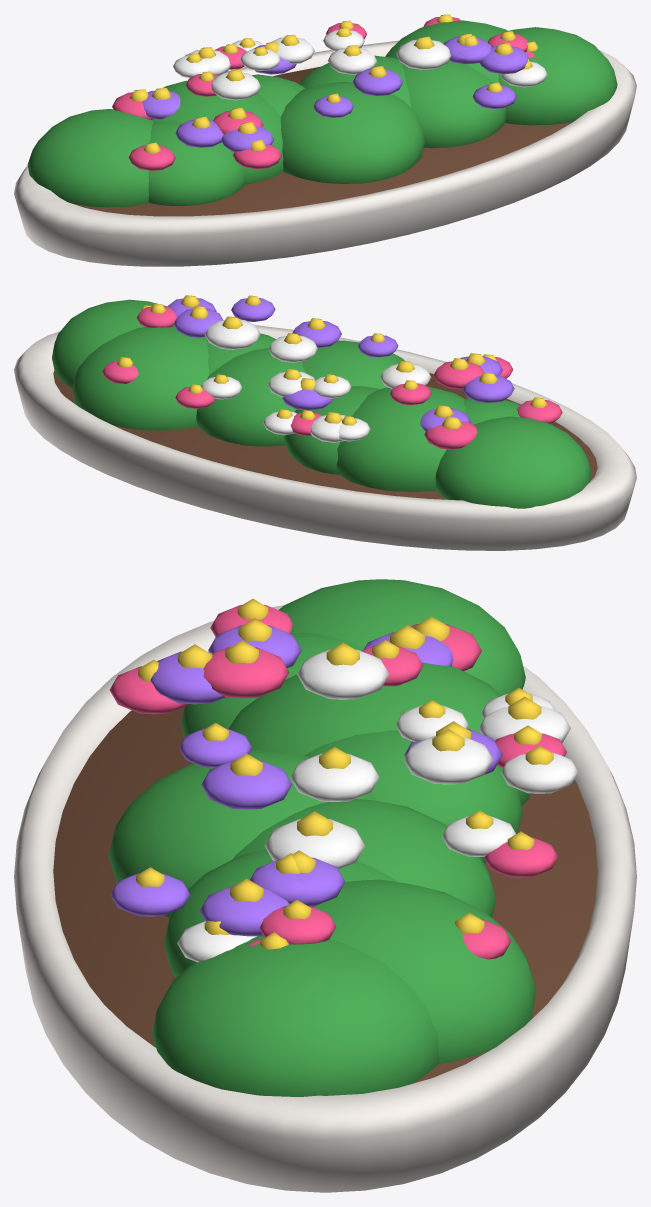
Rendered from LobbyFlowerBed.obj.
The picture shows the model from 3 angles, top to bottom: view 1: azimuth 30°, elevation 25°; view 2: azimuth 150°, elevation 25°; view 3: azimuth 270°, elevation 25°; orthographic projection. The views are drawn at different scales.
Visible parts, largest first — view 1: Leaves, Curb, Soil, FlowerC, FlowerB, FlowerA, Hearts; view 2: Leaves, Curb, FlowerB, Soil, FlowerC, FlowerA, Hearts; view 3: Leaves, Curb, Soil, FlowerB, FlowerC, FlowerA, Hearts.
Part boxes in pixels (<box>): Leaves: <box>27,20,617,207</box>; Curb: <box>14,40,636,266</box>; Soil: <box>73,66,573,216</box>; FlowerC: <box>142,36,529,152</box>; FlowerB: <box>173,30,547,100</box>; FlowerA: <box>112,17,534,170</box>; Hearts: <box>129,14,538,153</box>; Leaves: <box>52,299,591,508</box>; Curb: <box>14,325,636,550</box>; FlowerB: <box>201,319,431,442</box>; Soil: <box>53,370,597,499</box>; FlowerC: <box>167,298,514,431</box>; FlowerA: <box>102,306,562,449</box>; Hearts: <box>117,295,547,428</box>; Leaves: <box>108,579,535,1096</box>; Curb: <box>14,605,636,1192</box>; Soil: <box>53,707,597,1083</box>; FlowerB: <box>177,649,578,962</box>; FlowerC: <box>110,625,502,936</box>; FlowerA: <box>109,605,566,959</box>; Hearts: <box>136,598,553,949</box>.
Size of the model in its own units: 10.3 by 2.05 by 5.15.
